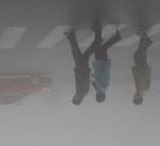person: (63, 28, 102, 106), (91, 29, 123, 103), (132, 30, 153, 106)
